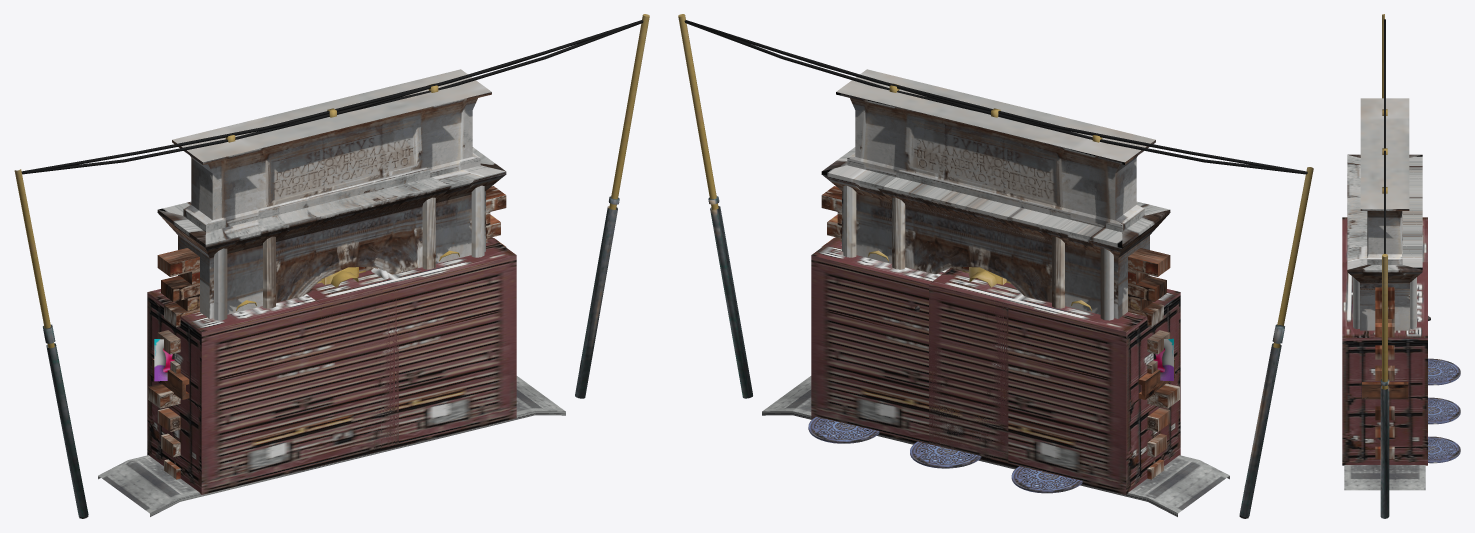
The model's file is Obstacles_City.fbx.
3 renders of one model, left to right at view 1: azimuth 30°, elevation 25°; view 2: azimuth 150°, elevation 25°; view 3: azimuth 270°, elevation 25°, orthographic. The views are drawn at different scales.
Parts seen in each view (by area): view 1: obstacleEvade_Archway_LR, obstacleEvade_ShipContainer_LM, obstacleEvade_ShipContainer_MR, obstacleRoadblock_BrickWall.001, obstacleJump_Crosswalkers_LMR, obstacleSlide_Banner_LMR, obstacleSlide_TrafficLight_L, obstacleSlide_TrafficLight_R, obstacleSlide_TrafficLight_M; view 2: obstacleEvade_Archway_LR, obstacleEvade_ShipContainer_LM, obstacleEvade_ShipContainer_MR, obstacleRoadblock_BrickWall.001, obstacleSlide_Banner_LMR, obstacleSlide_TrafficLight_L, obstacleJump_Crosswalkers_LMR, obstacleSlide_TrafficLight_R, obstacleSlide_TrafficLight_M, obstacleJump_Manhole_L, obstacleJump_Manhole_R, obstacleJump_Manhole_M; view 3: obstacleEvade_Archway_LR, obstacleEvade_ShipContainer_MR, obstacleJump_Crosswalkers_LMR, obstacleRoadblock_BrickWall.001, obstacleSlide_Banner_LMR, obstacleSlide_TrafficLight_L, obstacleJump_Manhole_M, obstacleJump_Manhole_R, obstacleJump_Manhole_L, obstacleSlide_TV_MR, obstacleEvade_ShipContainer_LM, obstacleSlide_TrafficLight_M (+1 smaller).
Boxes of the visible parts, left/top/right/bottom form: obstacleEvade_Archway_LR: left=157, top=69, right=506, bottom=320; obstacleEvade_ShipContainer_LM: left=147, top=286, right=398, bottom=494; obstacleEvade_ShipContainer_MR: left=306, top=237, right=516, bottom=452; obstacleRoadblock_BrickWall.001: left=148, top=186, right=506, bottom=479; obstacleJump_Crosswalkers_LMR: left=98, top=376, right=565, bottom=516; obstacleSlide_Banner_LMR: left=43, top=196, right=619, bottom=517; obstacleSlide_TrafficLight_L: left=14, top=14, right=649, bottom=518; obstacleSlide_TrafficLight_R: left=21, top=21, right=642, bottom=261; obstacleSlide_TrafficLight_M: left=141, top=20, right=642, bottom=287; obstacleEvade_Archway_LR: left=821, top=69, right=1170, bottom=320; obstacleEvade_ShipContainer_LM: left=929, top=268, right=1180, bottom=494; obstacleEvade_ShipContainer_MR: left=811, top=237, right=1008, bottom=465; obstacleRoadblock_BrickWall.001: left=821, top=186, right=1179, bottom=479; obstacleSlide_Banner_LMR: left=708, top=196, right=1284, bottom=517; obstacleSlide_TrafficLight_L: left=678, top=14, right=1313, bottom=518; obstacleJump_Crosswalkers_LMR: left=762, top=376, right=1229, bottom=516; obstacleSlide_TrafficLight_R: left=685, top=21, right=1306, bottom=261; obstacleSlide_TrafficLight_M: left=685, top=20, right=1187, bottom=287; obstacleJump_Manhole_L: left=1011, top=466, right=1083, bottom=493; obstacleJump_Manhole_R: left=808, top=417, right=879, bottom=443; obstacleJump_Manhole_M: left=910, top=441, right=981, bottom=468; obstacleEvade_Archway_LR: left=1347, top=98, right=1422, bottom=330; obstacleEvade_ShipContainer_MR: left=1342, top=262, right=1427, bottom=465; obstacleJump_Crosswalkers_LMR: left=1344, top=465, right=1425, bottom=490; obstacleRoadblock_BrickWall.001: left=1375, top=287, right=1394, bottom=458; obstacleSlide_Banner_LMR: left=1380, top=316, right=1430, bottom=518; obstacleSlide_TrafficLight_L: left=1382, top=14, right=1387, bottom=389; obstacleJump_Manhole_M: left=1428, top=397, right=1460, bottom=424; obstacleJump_Manhole_R: left=1428, top=436, right=1460, bottom=463; obstacleJump_Manhole_L: left=1428, top=358, right=1460, bottom=385; obstacleSlide_TV_MR: left=1362, top=382, right=1408, bottom=399; obstacleEvade_ShipContainer_LM: left=1342, top=217, right=1427, bottom=262; obstacleSlide_TrafficLight_M: left=1382, top=125, right=1387, bottom=253.
Bounding box in the file's own units: 752 × 155 × 415.
Materials: 1 (1 with a texture image).
